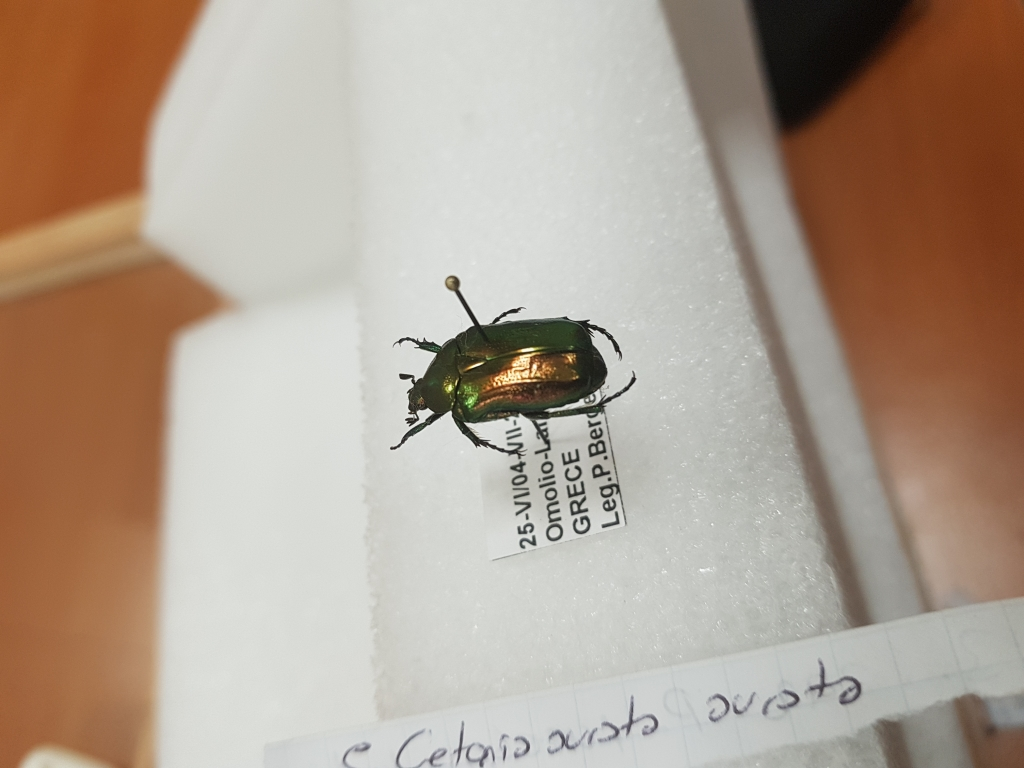Cetonia_aurata: (387, 294, 642, 464)
